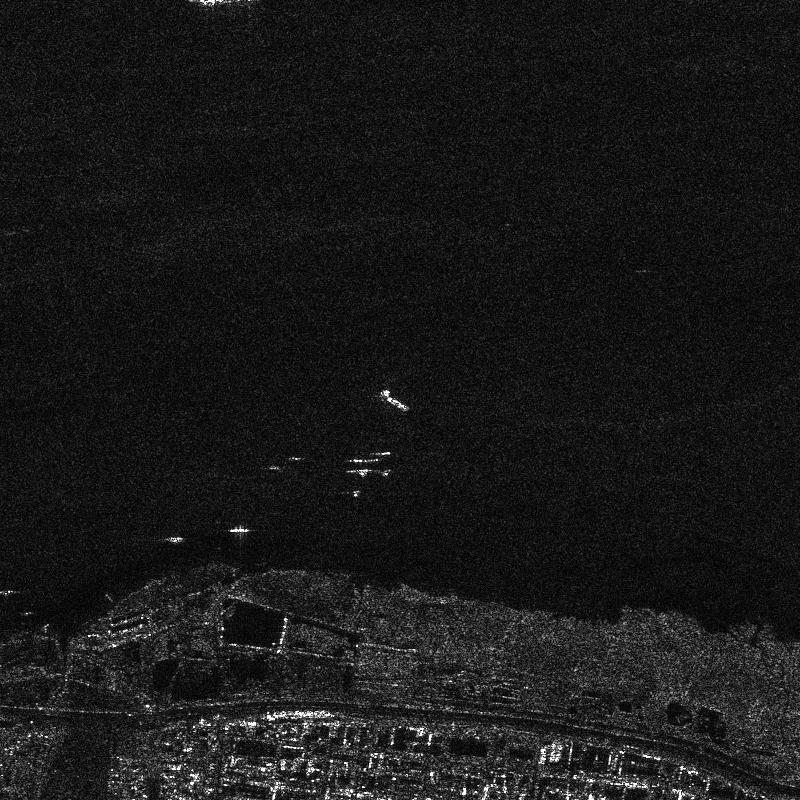ship: (379, 390, 408, 411), (356, 468, 370, 475), (167, 536, 183, 542), (229, 528, 248, 532), (374, 451, 391, 455), (349, 458, 362, 462)
